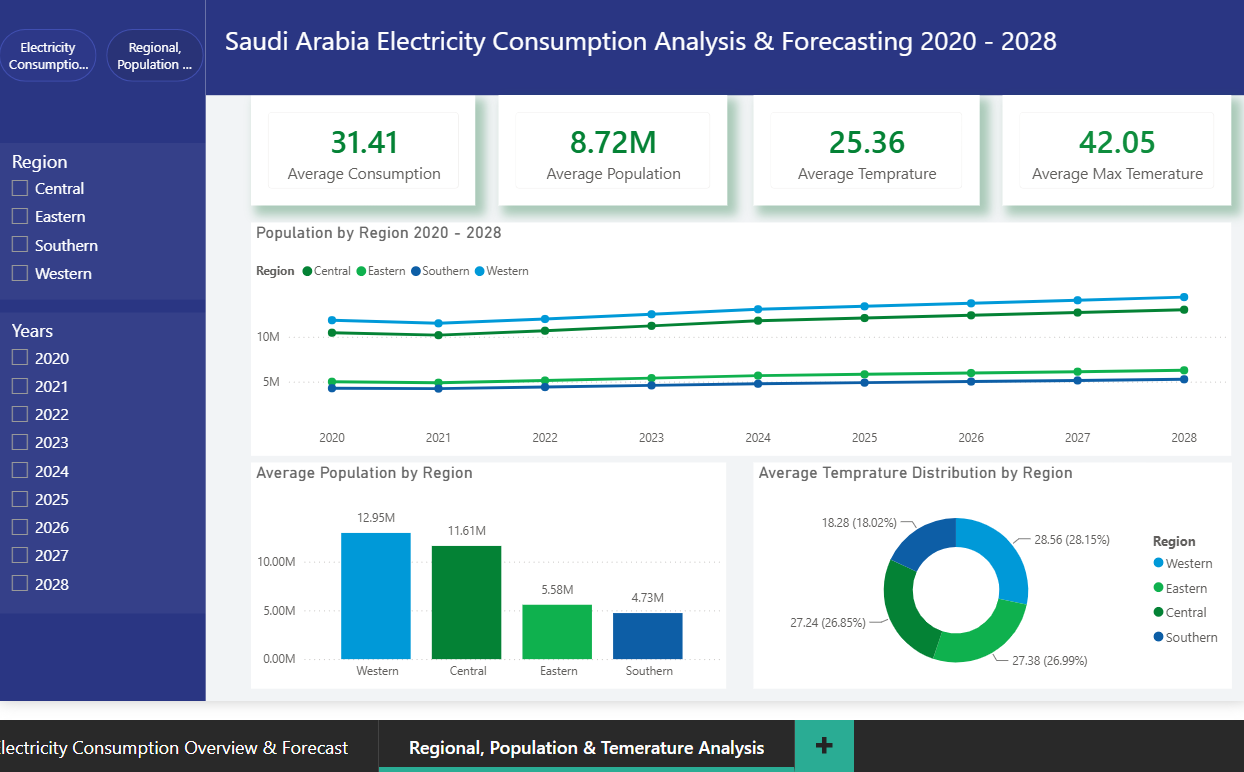

The dashboard page shown, as its layout file describes it:
{"tool":"powerbi","page":{"name":"Regional, Population & Temerature Analysis","canvas":[1280,720],"ordinal":1},"visuals":[{"type":"shape","box":[0,0,212,720.8],"z":0},{"type":"slicer","fields":{"Values":["Power_Data.Region"]},"box":[0,148.4,212,160.5],"z":1000},{"type":"slicer","fields":{"Values":["Power_Data.Years"]},"box":[0,321,212,308.9],"z":2000},{"type":"cardVisual","fields":{"Data":["Power_Data.Average Consumption"]},"box":[258.9,98.4,230.2,113.6],"z":6000},{"type":"textbox","box":[212,0,1067.5,98.4],"z":7000},{"type":"cardVisual","fields":{"Data":["Avg(Power_Data.Population)"]},"box":[511.8,98.4,234.7,113.6],"z":8000},{"type":"cardVisual","fields":{"Data":["Power_Data.Average Max Temerature"]},"box":[1029.7,98.4,234.7,113.6],"z":9000},{"type":"cardVisual","fields":{"Data":["Avg(Power_Data.Avg_Temp)"]},"box":[773.8,98.4,231.7,113.6],"z":10000},{"type":"pageNavigator","box":[0,30.3,212,54.5],"z":11000},{"type":"lineChart","title":"Population by Region 2020 - 2028","fields":{"Category":["Power_Data.Years"],"Series":["Power_Data.Region"],"Y":["Avg(Power_Data.Population)"]},"box":[258.9,228.6,1005.4,239.2],"z":11001},{"type":"lineClusteredColumnComboChart","title":"Average Population by Region","fields":{"Category":["Power_Data.Region"],"Y":["Avg(Power_Data.Population)"]},"box":[258.9,475.5,487.6,231.7],"z":11002},{"type":"donutChart","title":"Average Temprature Distribution by Region","fields":{"Category":["Power_Data.Region"],"Y":["Avg(Power_Data.Avg_Temp)"]},"box":[773.8,475.5,490.6,231.7],"z":11003}]}

Visuals, with their boxes on the page's 1280x720 design canvas (x1, y1, x2, y2). These are canvas units, not pixel positions in the 1244x772 screenshot, which may show the page scaled, cropped or inside an application window:
shape: left=0, top=0, right=212, bottom=721
slicer - Power_Data.Region: left=0, top=148, right=212, bottom=309
slicer - Power_Data.Years: left=0, top=321, right=212, bottom=630
cardVisual - Power_Data.Average Consumption: left=259, top=98, right=489, bottom=212
textbox: left=212, top=0, right=1280, bottom=98
cardVisual - Avg(Power_Data.Population): left=512, top=98, right=746, bottom=212
cardVisual - Power_Data.Average Max Temerature: left=1030, top=98, right=1264, bottom=212
cardVisual - Avg(Power_Data.Avg_Temp): left=774, top=98, right=1006, bottom=212
pageNavigator: left=0, top=30, right=212, bottom=85
"Population by Region 2020 - 2028" lineChart: left=259, top=229, right=1264, bottom=468
"Average Population by Region" lineClusteredColumnComboChart: left=259, top=476, right=746, bottom=707
"Average Temprature Distribution by Region" donutChart: left=774, top=476, right=1264, bottom=707
